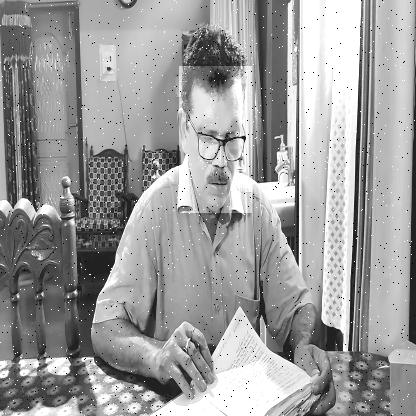Normal: (179, 66, 252, 213)
